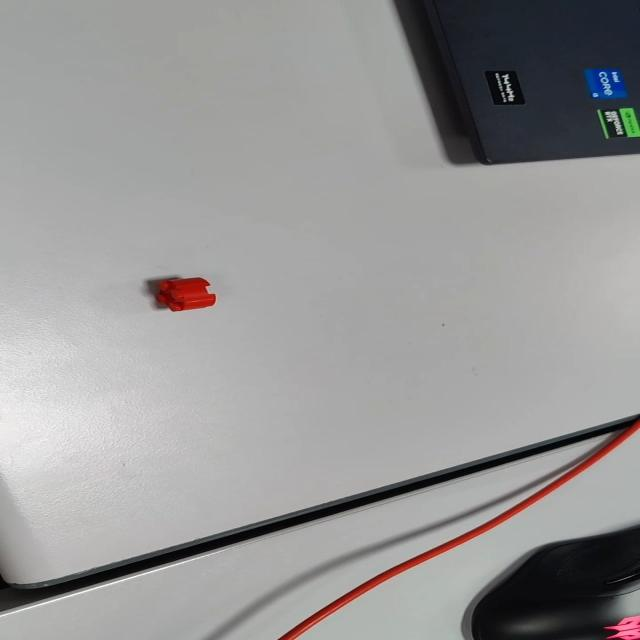S2x2x1: (142, 273, 220, 316)
